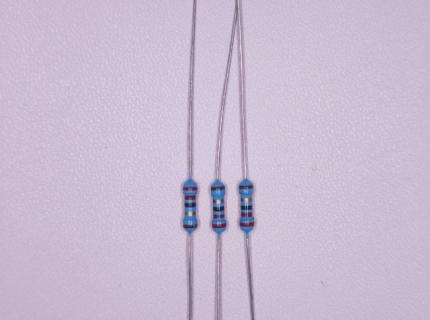Black band: (184, 202, 196, 208), (213, 206, 224, 212), (241, 205, 252, 210)
Brown band: (183, 223, 197, 229), (211, 186, 225, 191), (239, 185, 253, 189)
Gold band: (184, 211, 196, 216), (213, 199, 224, 204), (241, 197, 252, 202)
Red band: (212, 223, 226, 228), (240, 222, 254, 227), (241, 212, 253, 217), (183, 187, 197, 191), (185, 195, 196, 200), (213, 214, 224, 219)
